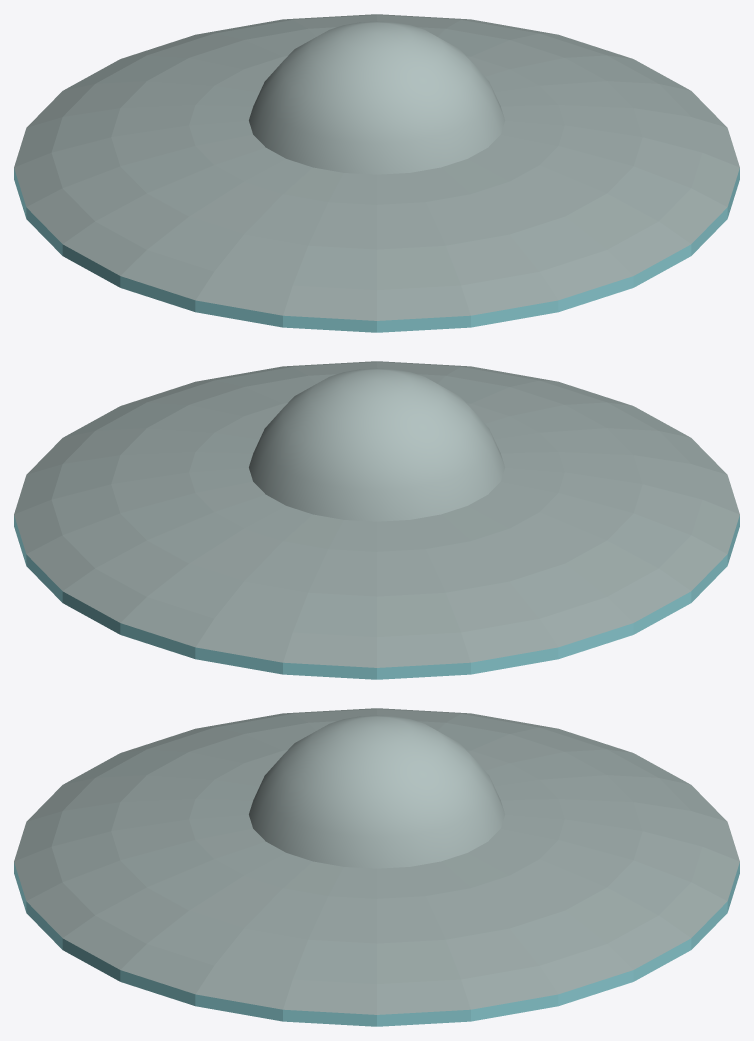
File: ufo3.glb
3 renders of one model, top to bottom at view 1: azimuth 30°, elevation 25°; view 2: azimuth 150°, elevation 25°; view 3: azimuth 270°, elevation 25°, orthographic.
Parts seen in each view (by area): view 1: Sphere.001; view 2: Sphere.001; view 3: Sphere.001.
Part boxes in pixels (<box>): Sphere.001: <box>14,14,739,332</box>; Sphere.001: <box>14,361,739,679</box>; Sphere.001: <box>14,708,739,1026</box>.
Size of the model in its own units: 81.14 by 24.42 by 81.14.
